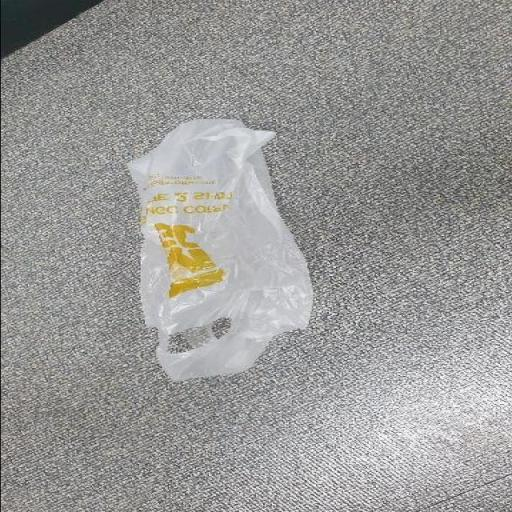polythene: (129, 120, 312, 380)
